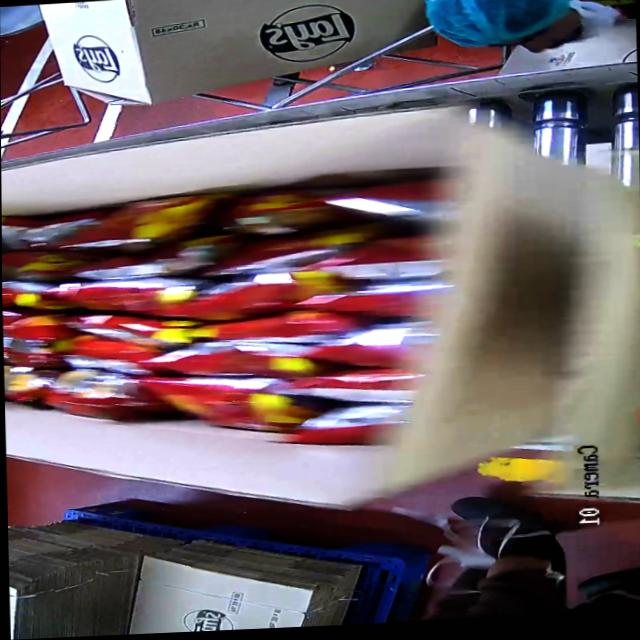MASALA: (1, 180, 420, 455)
